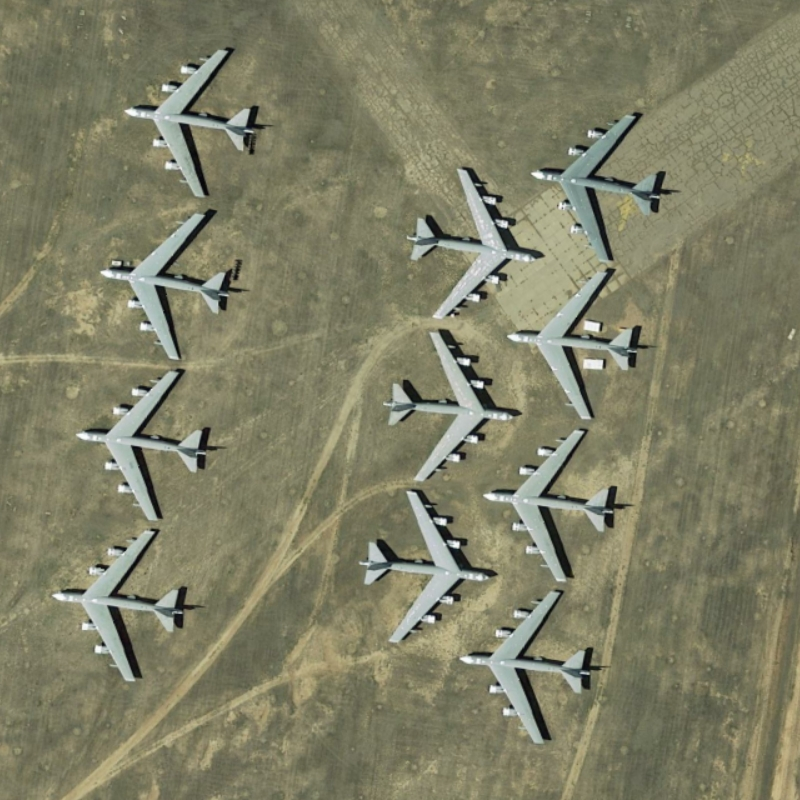A8: (116, 42, 275, 204), (48, 525, 198, 690), (499, 267, 653, 426), (453, 587, 607, 746), (527, 104, 674, 267), (399, 158, 545, 322), (481, 421, 626, 584), (98, 210, 251, 364), (378, 322, 517, 485), (75, 366, 220, 522), (360, 486, 499, 644)
